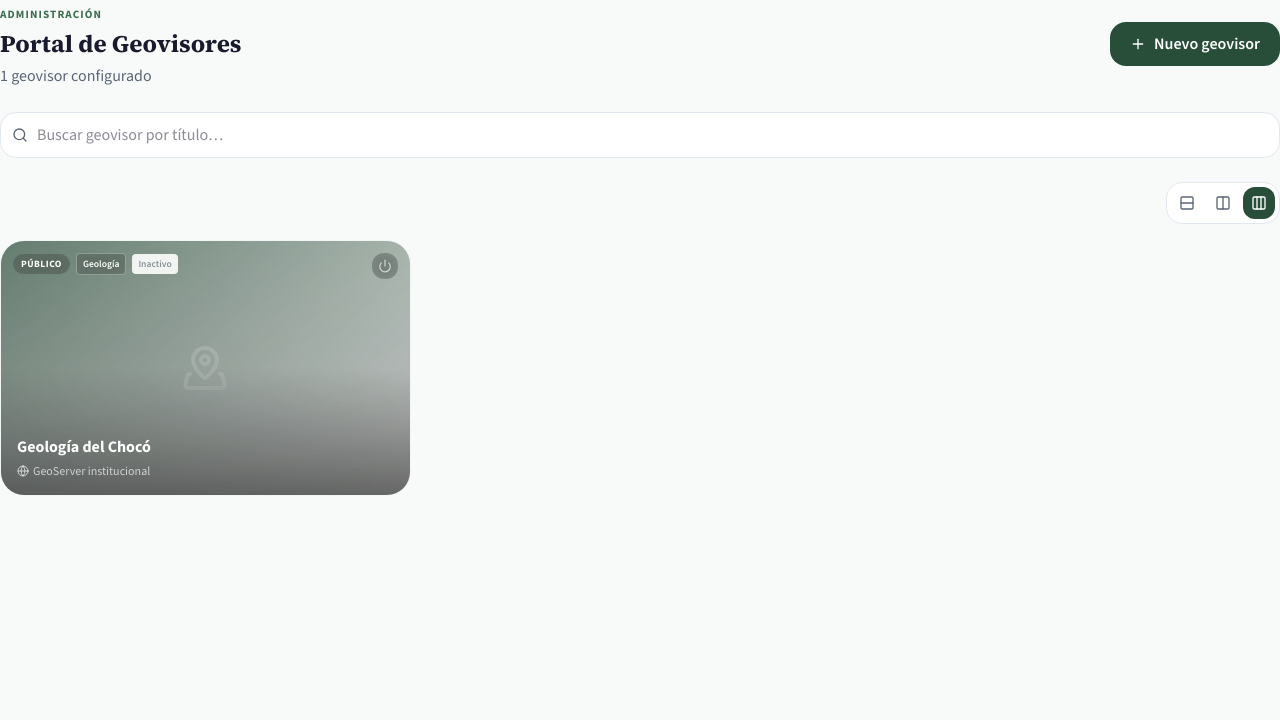
Test: GestionGeovisores — activar/desactivar › si el backend solo devuelve el id como nombre, el diálogo muestra un nombre legible
Click the button titled "Activar": (385, 266) [372,253,398,279]
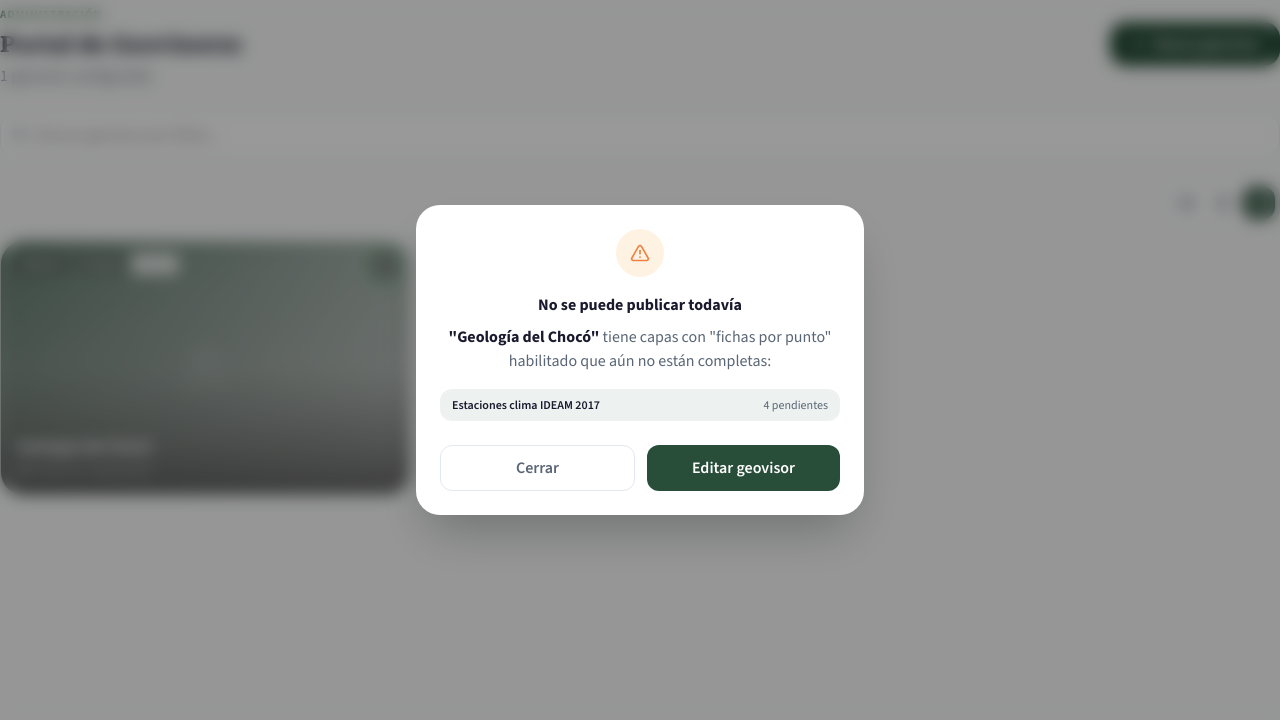
Result: the text "Estaciones clima IDEAM 2017" is shown at [452,397,600,413]
